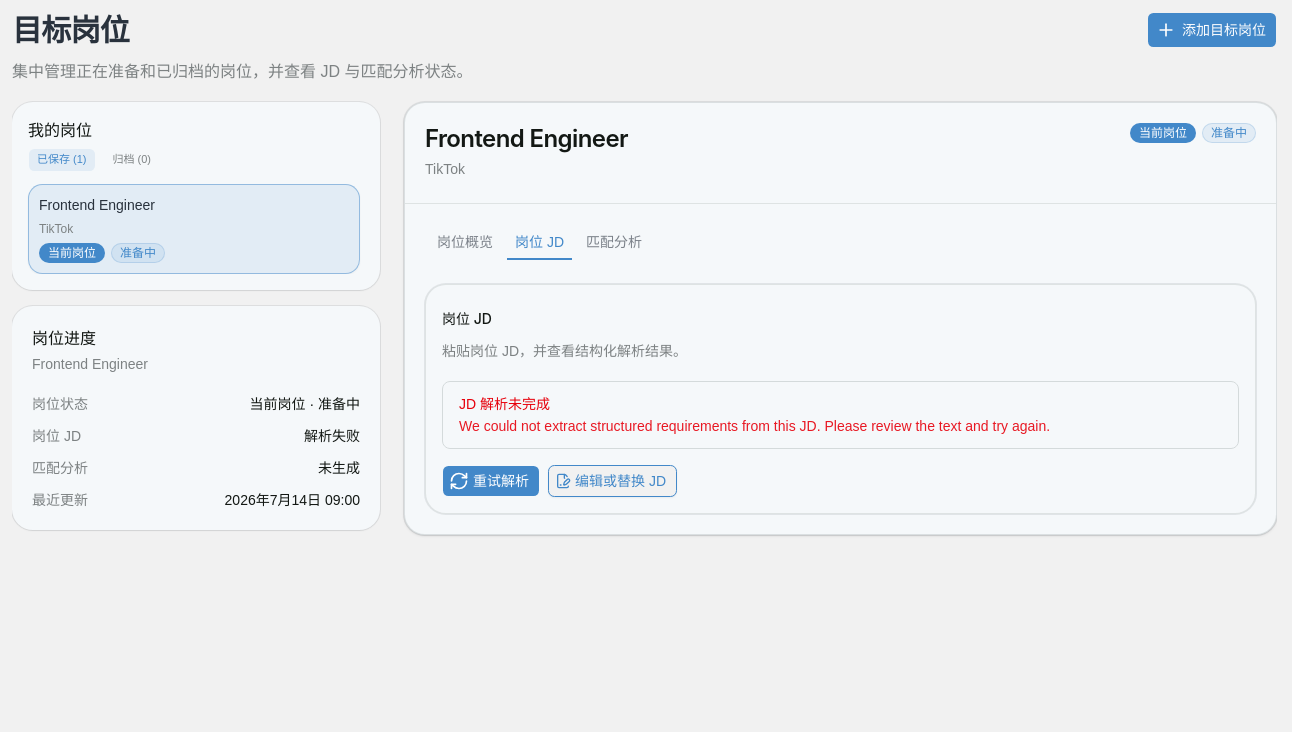
Test: RolesView › disables retry while a failed parse retry is pending
Click the button "重试解析" at (491, 480), box [442, 464, 540, 496]
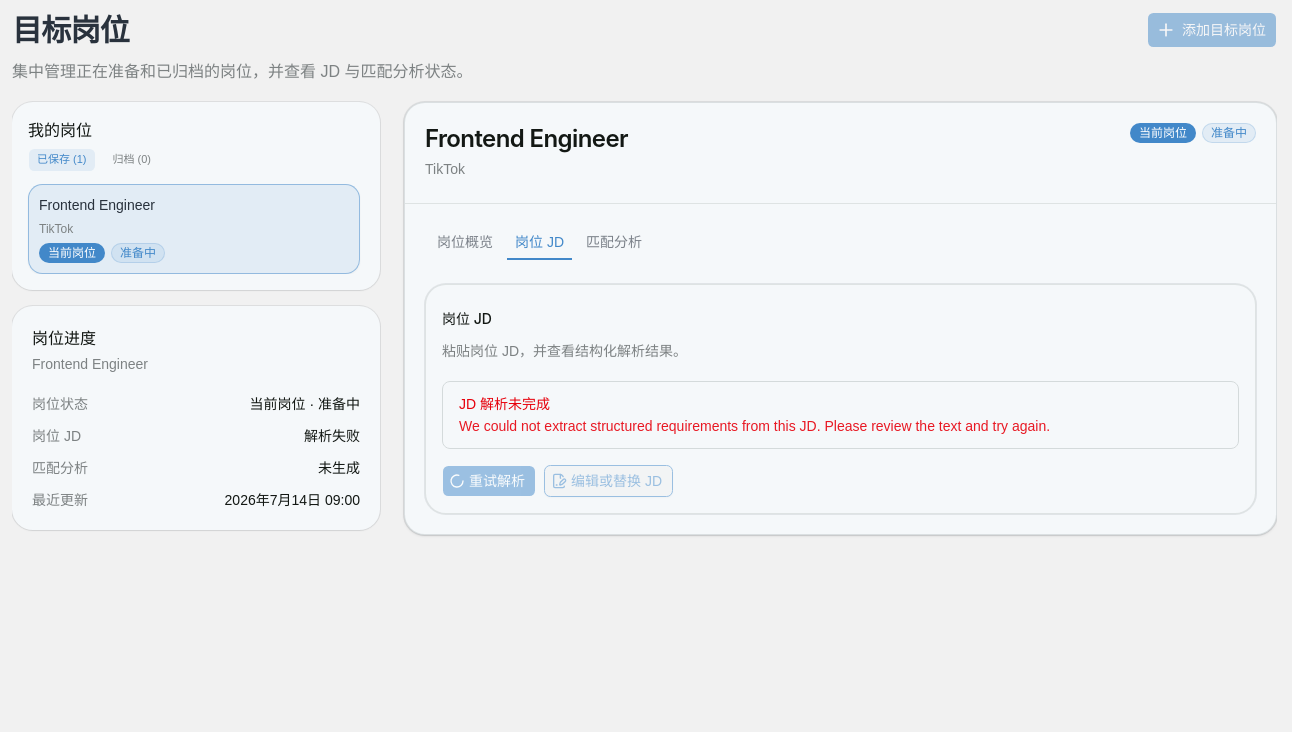
Expected: the button "重试解析" is disabled, [442, 464, 536, 496]
